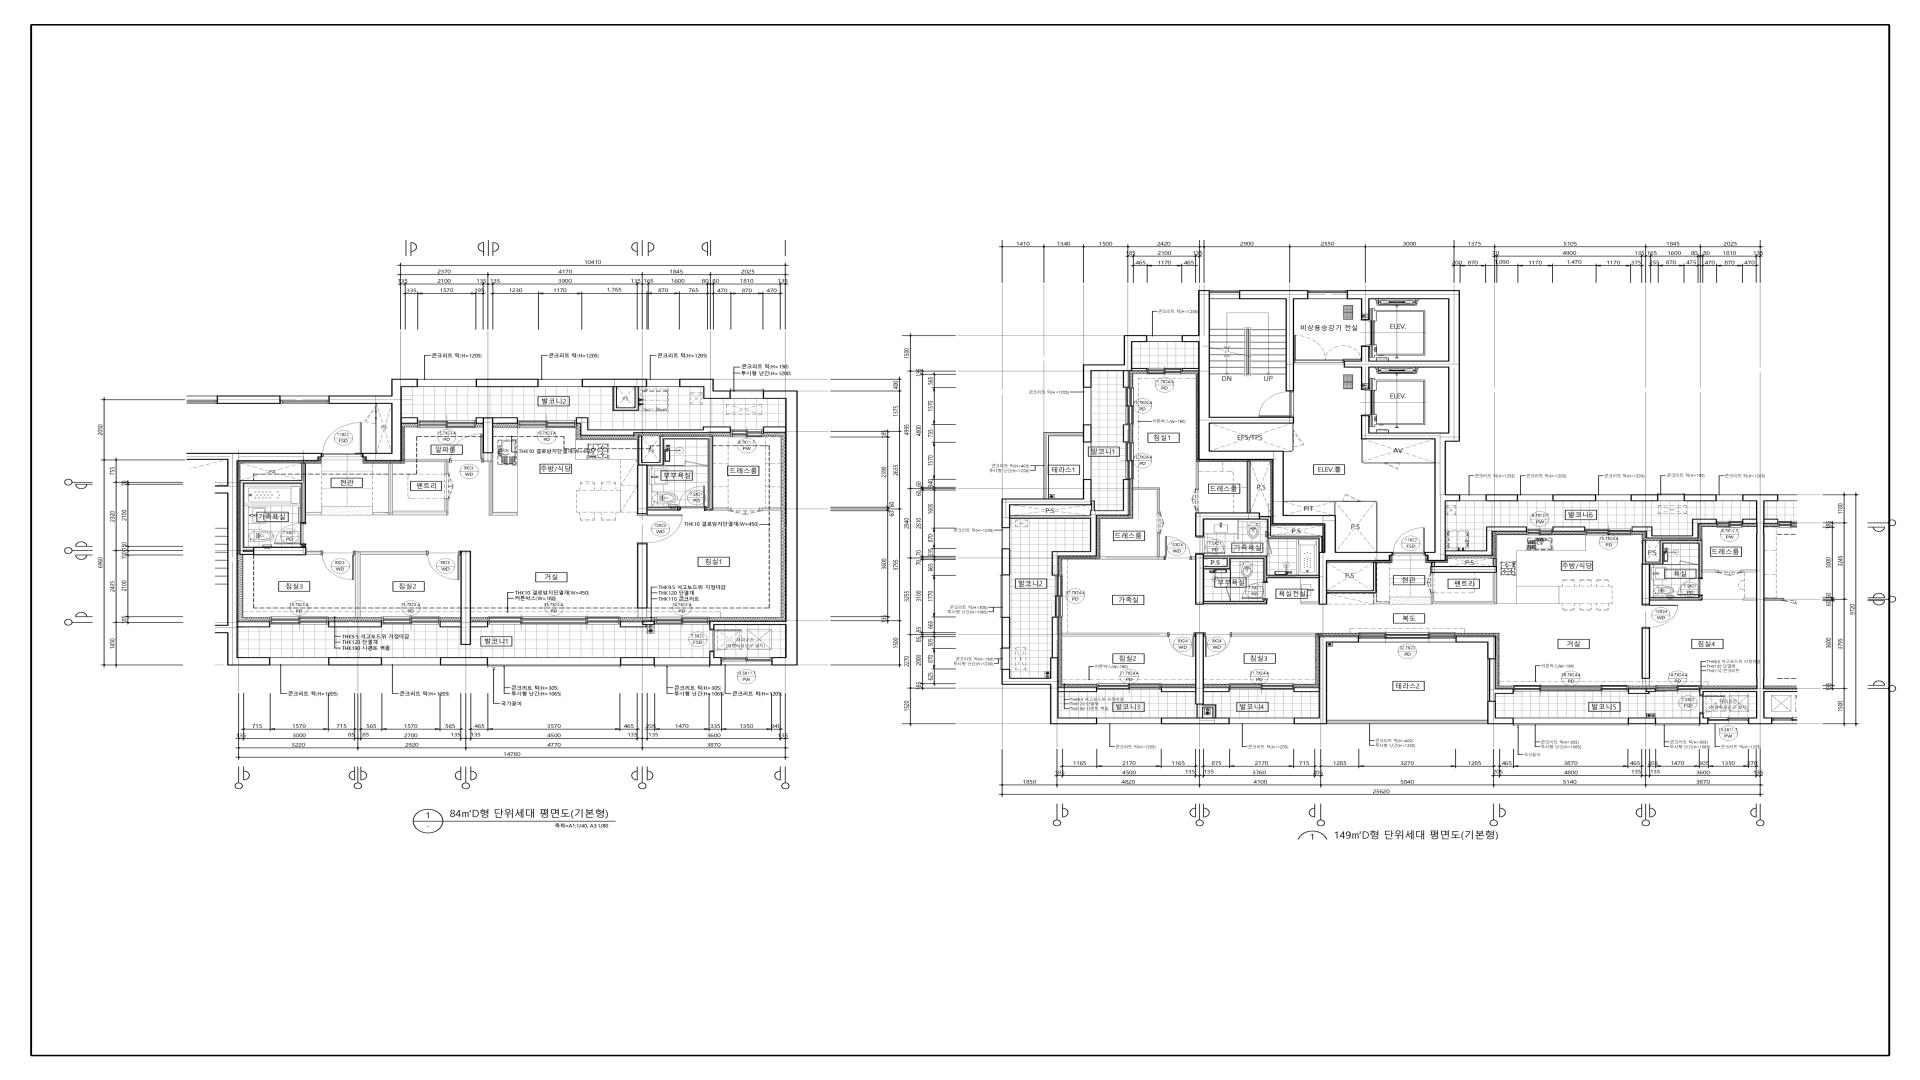door: (637, 513, 683, 545), (322, 422, 363, 458), (1294, 335, 1344, 363), (450, 434, 483, 463), (322, 551, 355, 580), (427, 551, 460, 580), (1393, 527, 1425, 555), (1259, 392, 1294, 417), (1642, 605, 1679, 628), (678, 485, 705, 512), (709, 629, 741, 651), (274, 522, 306, 545), (1204, 633, 1232, 657), (1164, 537, 1191, 560), (1168, 633, 1195, 657), (1196, 537, 1225, 554), (1242, 582, 1267, 600), (1677, 578, 1702, 596), (1700, 696, 1725, 713), (729, 508, 762, 516), (444, 473, 454, 498), (364, 406, 377, 423), (1716, 570, 1743, 576), (1294, 430, 1304, 447), (1427, 572, 1435, 593), (1156, 513, 1164, 533), (684, 460, 707, 467), (1192, 489, 1199, 509), (1344, 495, 1361, 501), (1225, 585, 1232, 601), (1385, 463, 1399, 469), (1267, 539, 1273, 554), (1680, 560, 1698, 564)
wall: (1182, 290, 1393, 605), (1344, 290, 1460, 562), (709, 390, 798, 666), (227, 452, 322, 666), (1195, 462, 1323, 553), (1010, 479, 1130, 575), (240, 463, 322, 555), (328, 378, 418, 462), (637, 436, 729, 513), (1240, 290, 1308, 392), (1191, 554, 1319, 604), (1001, 658, 1097, 724), (1160, 633, 1230, 717), (1294, 636, 1360, 724), (1743, 495, 1764, 724), (355, 551, 427, 617), (1642, 541, 1716, 605), (1284, 501, 1377, 553), (1001, 479, 1092, 529), (440, 551, 488, 645), (476, 417, 518, 516), (372, 464, 448, 516), (1083, 335, 1147, 388), (1431, 558, 1497, 604), (576, 418, 731, 436), (1327, 562, 1390, 604), (1447, 526, 1527, 556), (1361, 439, 1435, 463), (1631, 518, 1717, 538), (1101, 533, 1164, 559), (1487, 659, 1514, 702), (679, 378, 731, 400), (1456, 636, 1497, 659), (637, 545, 647, 617), (253, 545, 322, 555), (1133, 488, 1160, 513), (405, 459, 450, 473), (582, 378, 647, 388), (1487, 702, 1514, 724), (476, 378, 538, 388), (216, 396, 281, 404), (328, 657, 382, 666), (1642, 628, 1650, 686), (1160, 717, 1229, 724), (1700, 688, 1756, 696), (440, 657, 488, 666), (1063, 633, 1168, 637), (328, 621, 382, 628), (620, 657, 655, 666), (1232, 633, 1315, 637), (1001, 617, 1010, 649), (1552, 495, 1596, 501), (1204, 559, 1230, 570), (1052, 617, 1059, 658), (1284, 423, 1294, 452), (1001, 549, 1010, 575), (620, 621, 655, 628), (237, 621, 270, 628), (1684, 495, 1717, 501), (1486, 495, 1518, 501), (1059, 687, 1097, 692), (1631, 495, 1659, 501), (1629, 717, 1656, 724), (1552, 526, 1585, 531), (709, 651, 721, 666), (1083, 425, 1092, 443), (764, 426, 786, 433), (1629, 688, 1656, 694), (1294, 687, 1319, 692), (1124, 425, 1130, 443), (402, 417, 418, 423), (1124, 372, 1130, 388), (1700, 713, 1709, 724), (1742, 518, 1756, 524), (1196, 462, 1199, 489), (1133, 368, 1147, 372), (762, 508, 781, 510), (1182, 368, 1199, 371), (376, 423, 377, 454), (1743, 599, 1756, 601), (1743, 570, 1756, 572), (1300, 603, 1319, 604), (1230, 570, 1232, 585), (376, 404, 377, 406), (1267, 554, 1267, 555), (1664, 564, 1680, 564)
window: (1043, 433, 1083, 498), (488, 658, 620, 667), (488, 617, 620, 625), (1514, 717, 1629, 725), (1358, 633, 1456, 642), (1327, 720, 1487, 724), (1514, 686, 1629, 691), (655, 658, 709, 667), (381, 617, 440, 625), (721, 657, 771, 666), (270, 658, 328, 666), (270, 617, 328, 625), (382, 658, 440, 666), (418, 378, 476, 386), (418, 421, 476, 429), (518, 421, 576, 429), (655, 617, 709, 625), (1229, 717, 1294, 724), (1230, 683, 1294, 690), (1097, 717, 1160, 724), (1097, 683, 1160, 690), (1001, 575, 1010, 617), (281, 396, 328, 404), (1308, 290, 1346, 299), (538, 378, 582, 386), (1656, 717, 1700, 725), (1083, 388, 1092, 425), (1055, 575, 1063, 617), (1083, 443, 1092, 479), (731, 389, 764, 398), (1585, 529, 1631, 535), (1126, 388, 1134, 425), (1126, 443, 1134, 479), (1209, 290, 1240, 299), (1709, 717, 1749, 724), (647, 378, 679, 386), (1000, 647, 1010, 670), (1596, 495, 1631, 501), (1656, 686, 1700, 691), (187, 396, 216, 404), (1518, 495, 1552, 501), (1147, 368, 1182, 375), (1147, 335, 1182, 342), (731, 430, 764, 436), (1658, 493, 1684, 501), (1460, 495, 1486, 501), (1717, 495, 1743, 501), (1527, 529, 1552, 535), (1717, 521, 1742, 527), (1002, 529, 1010, 549)
